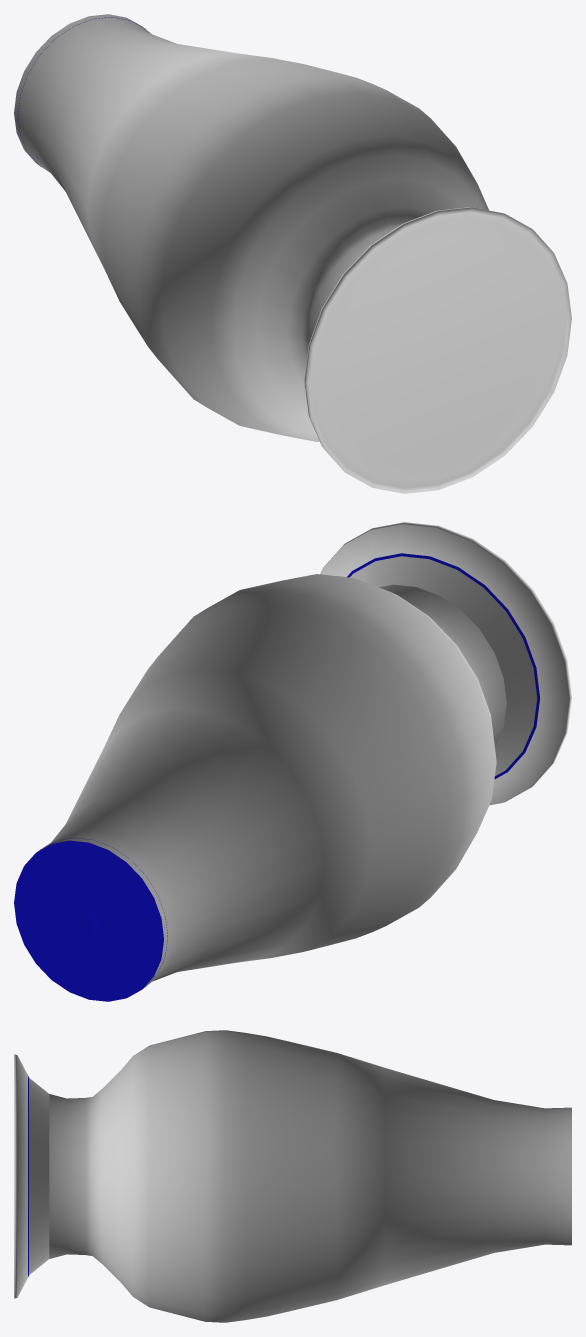
The model's file is model_align.obj.
3 views of the same model, one above another, from view 1: azimuth 30°, elevation 25°; view 2: azimuth 150°, elevation 25°; view 3: azimuth 270°, elevation 25° (orthographic). The views are drawn at different scales.
Visible parts, largest first — view 1: mesh2_mesh2-geometry; view 2: mesh2_mesh2-geometry; view 3: mesh2_mesh2-geometry.
Boxes of the visible parts, x1=… form: mesh2_mesh2-geometry: x1=14, y1=14, x2=571, y2=493; mesh2_mesh2-geometry: x1=14, y1=522, x2=571, y2=1001; mesh2_mesh2-geometry: x1=14, y1=1030, x2=571, y2=1322.
Size of the model in its own units: 0.0937 by 0.0937 by 0.178.
